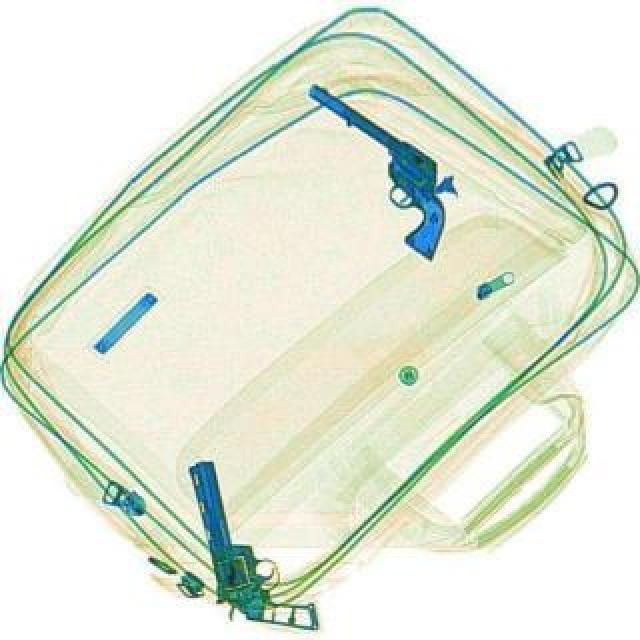gun: (258, 80, 484, 260), (184, 446, 320, 638)
